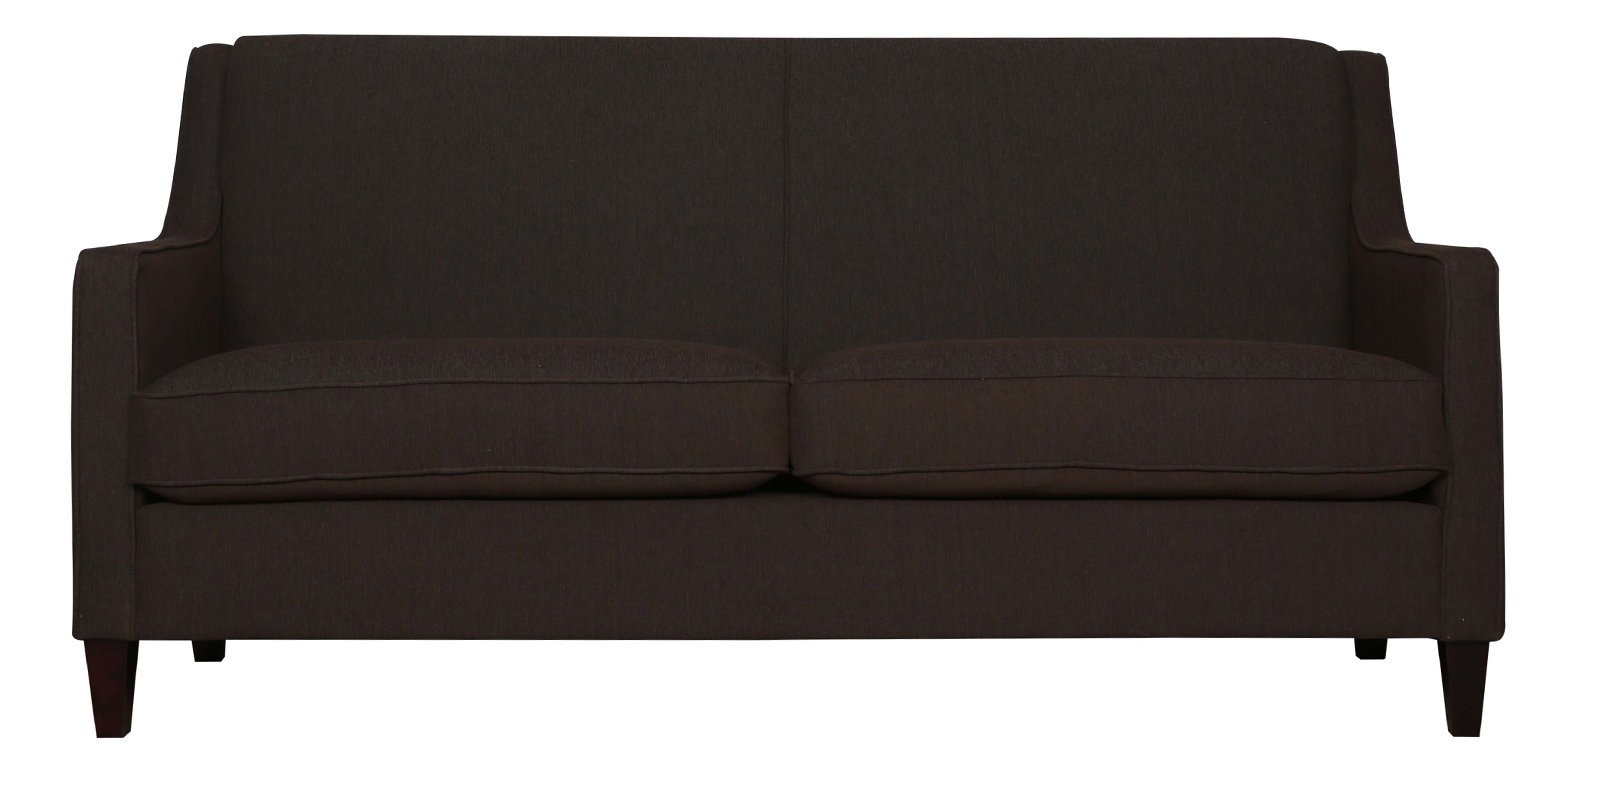Oscar Three Seater Sofa in Chestnut Brown Colour by CasaCraft: (67, 36, 1508, 739)
